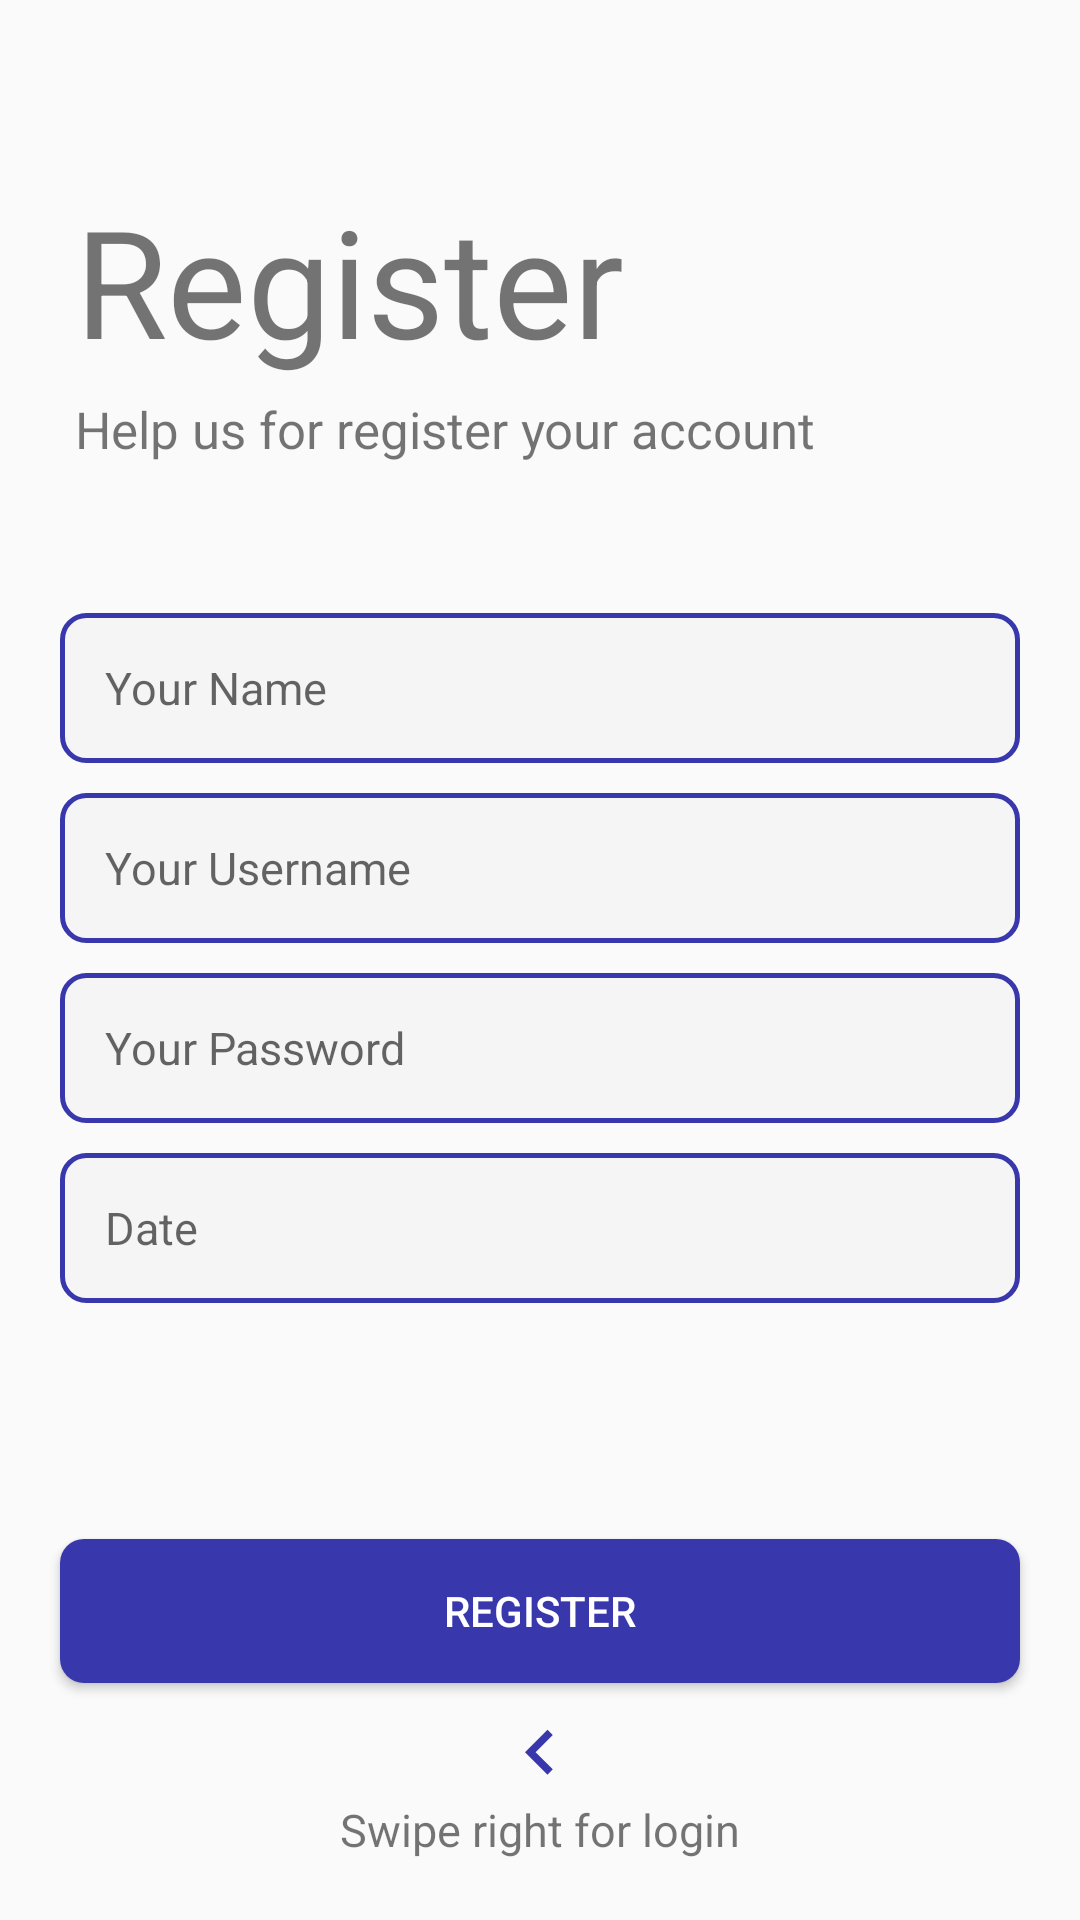

Icons on this 1080x1920 Android screen, each with the point to tap as point (x, y):
arrow left: point (539, 1752)
